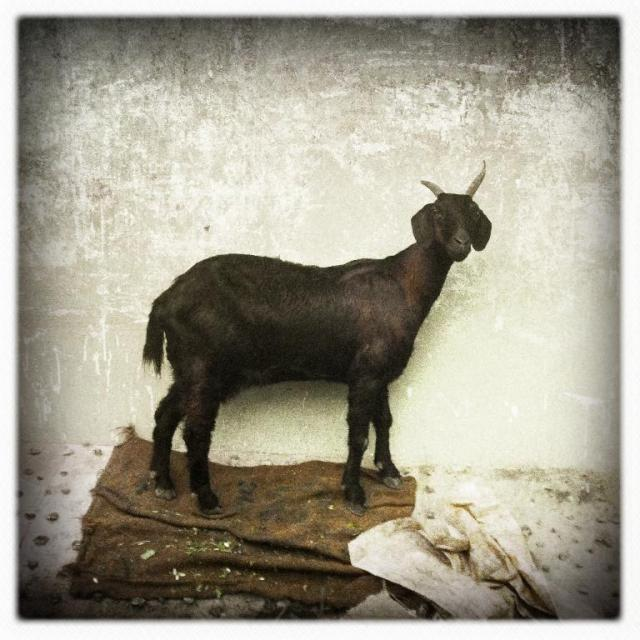Goat: (138, 159, 492, 516)
